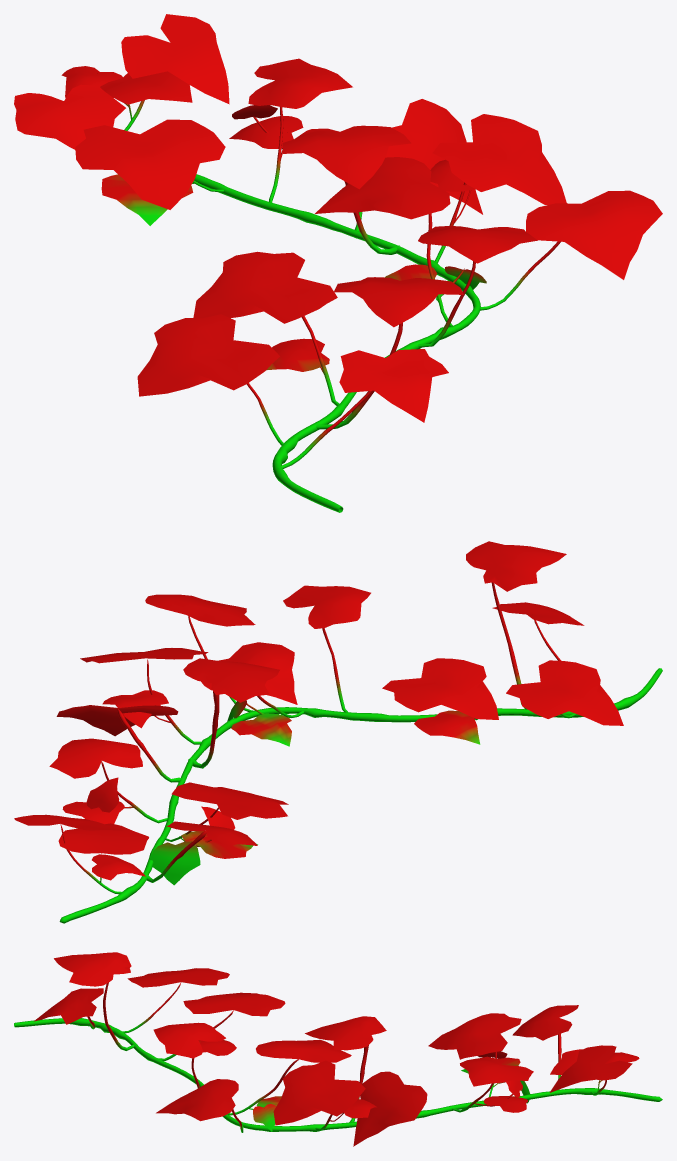
Rendered from Var8_LOD0.fbx.
3 renders of one model, top to bottom at view 1: azimuth 30°, elevation 25°; view 2: azimuth 150°, elevation 25°; view 3: azimuth 270°, elevation 25°, orthographic. The views are drawn at different scales.
Parts seen in each view (by area): view 1: _6ias_Var8_LOD0; view 2: _6ias_Var8_LOD0; view 3: _6ias_Var8_LOD0.
Part boxes in pixels (x1,y1,x2,y2): _6ias_Var8_LOD0: [14, 14, 662, 512]; _6ias_Var8_LOD0: [14, 541, 662, 923]; _6ias_Var8_LOD0: [14, 952, 662, 1146].
Bounding box in the file's own units: 37.98 × 11.6 × 59.31.
